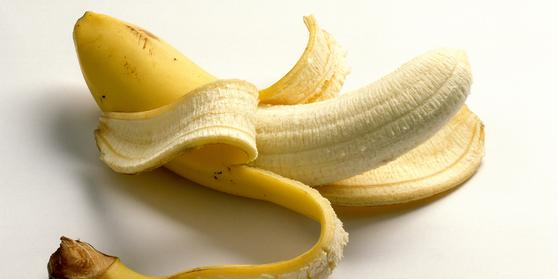banana: (77, 12, 463, 205)
